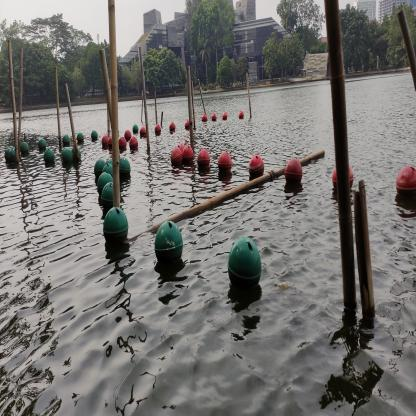green_buoy: (227, 236, 264, 294), (154, 219, 184, 266), (103, 206, 129, 245), (100, 182, 117, 209), (96, 172, 113, 196), (118, 158, 132, 179), (94, 157, 106, 178), (62, 148, 73, 165), (102, 164, 114, 179), (44, 149, 55, 164), (20, 140, 30, 156), (72, 146, 82, 161), (8, 149, 17, 163), (38, 138, 47, 151), (4, 148, 12, 162), (91, 129, 98, 141), (104, 159, 113, 168), (132, 123, 139, 134), (63, 135, 70, 146), (77, 132, 84, 143), (8, 146, 15, 150)
red_buoy: (395, 164, 416, 199), (332, 164, 354, 190), (284, 158, 303, 186), (216, 150, 233, 174), (248, 154, 264, 179), (196, 146, 212, 170), (169, 148, 183, 166), (182, 146, 194, 163), (129, 136, 139, 149), (118, 137, 127, 150), (101, 134, 109, 148), (168, 121, 177, 133), (139, 126, 147, 138), (124, 129, 132, 141), (176, 144, 184, 156), (107, 136, 113, 150), (154, 124, 162, 134), (180, 140, 188, 148), (201, 113, 208, 122), (238, 110, 244, 120), (184, 120, 190, 130), (222, 111, 228, 120), (211, 113, 217, 122)
